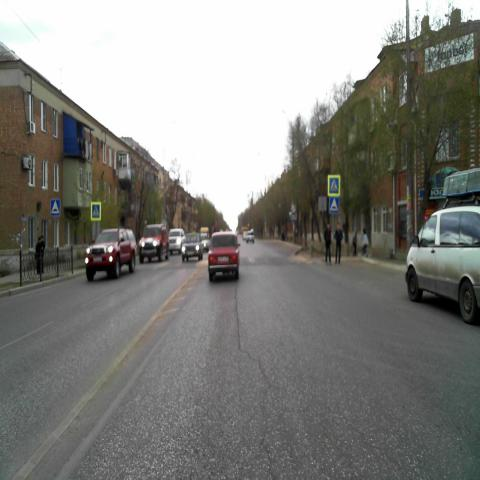5_20: (50, 198, 61, 217)
